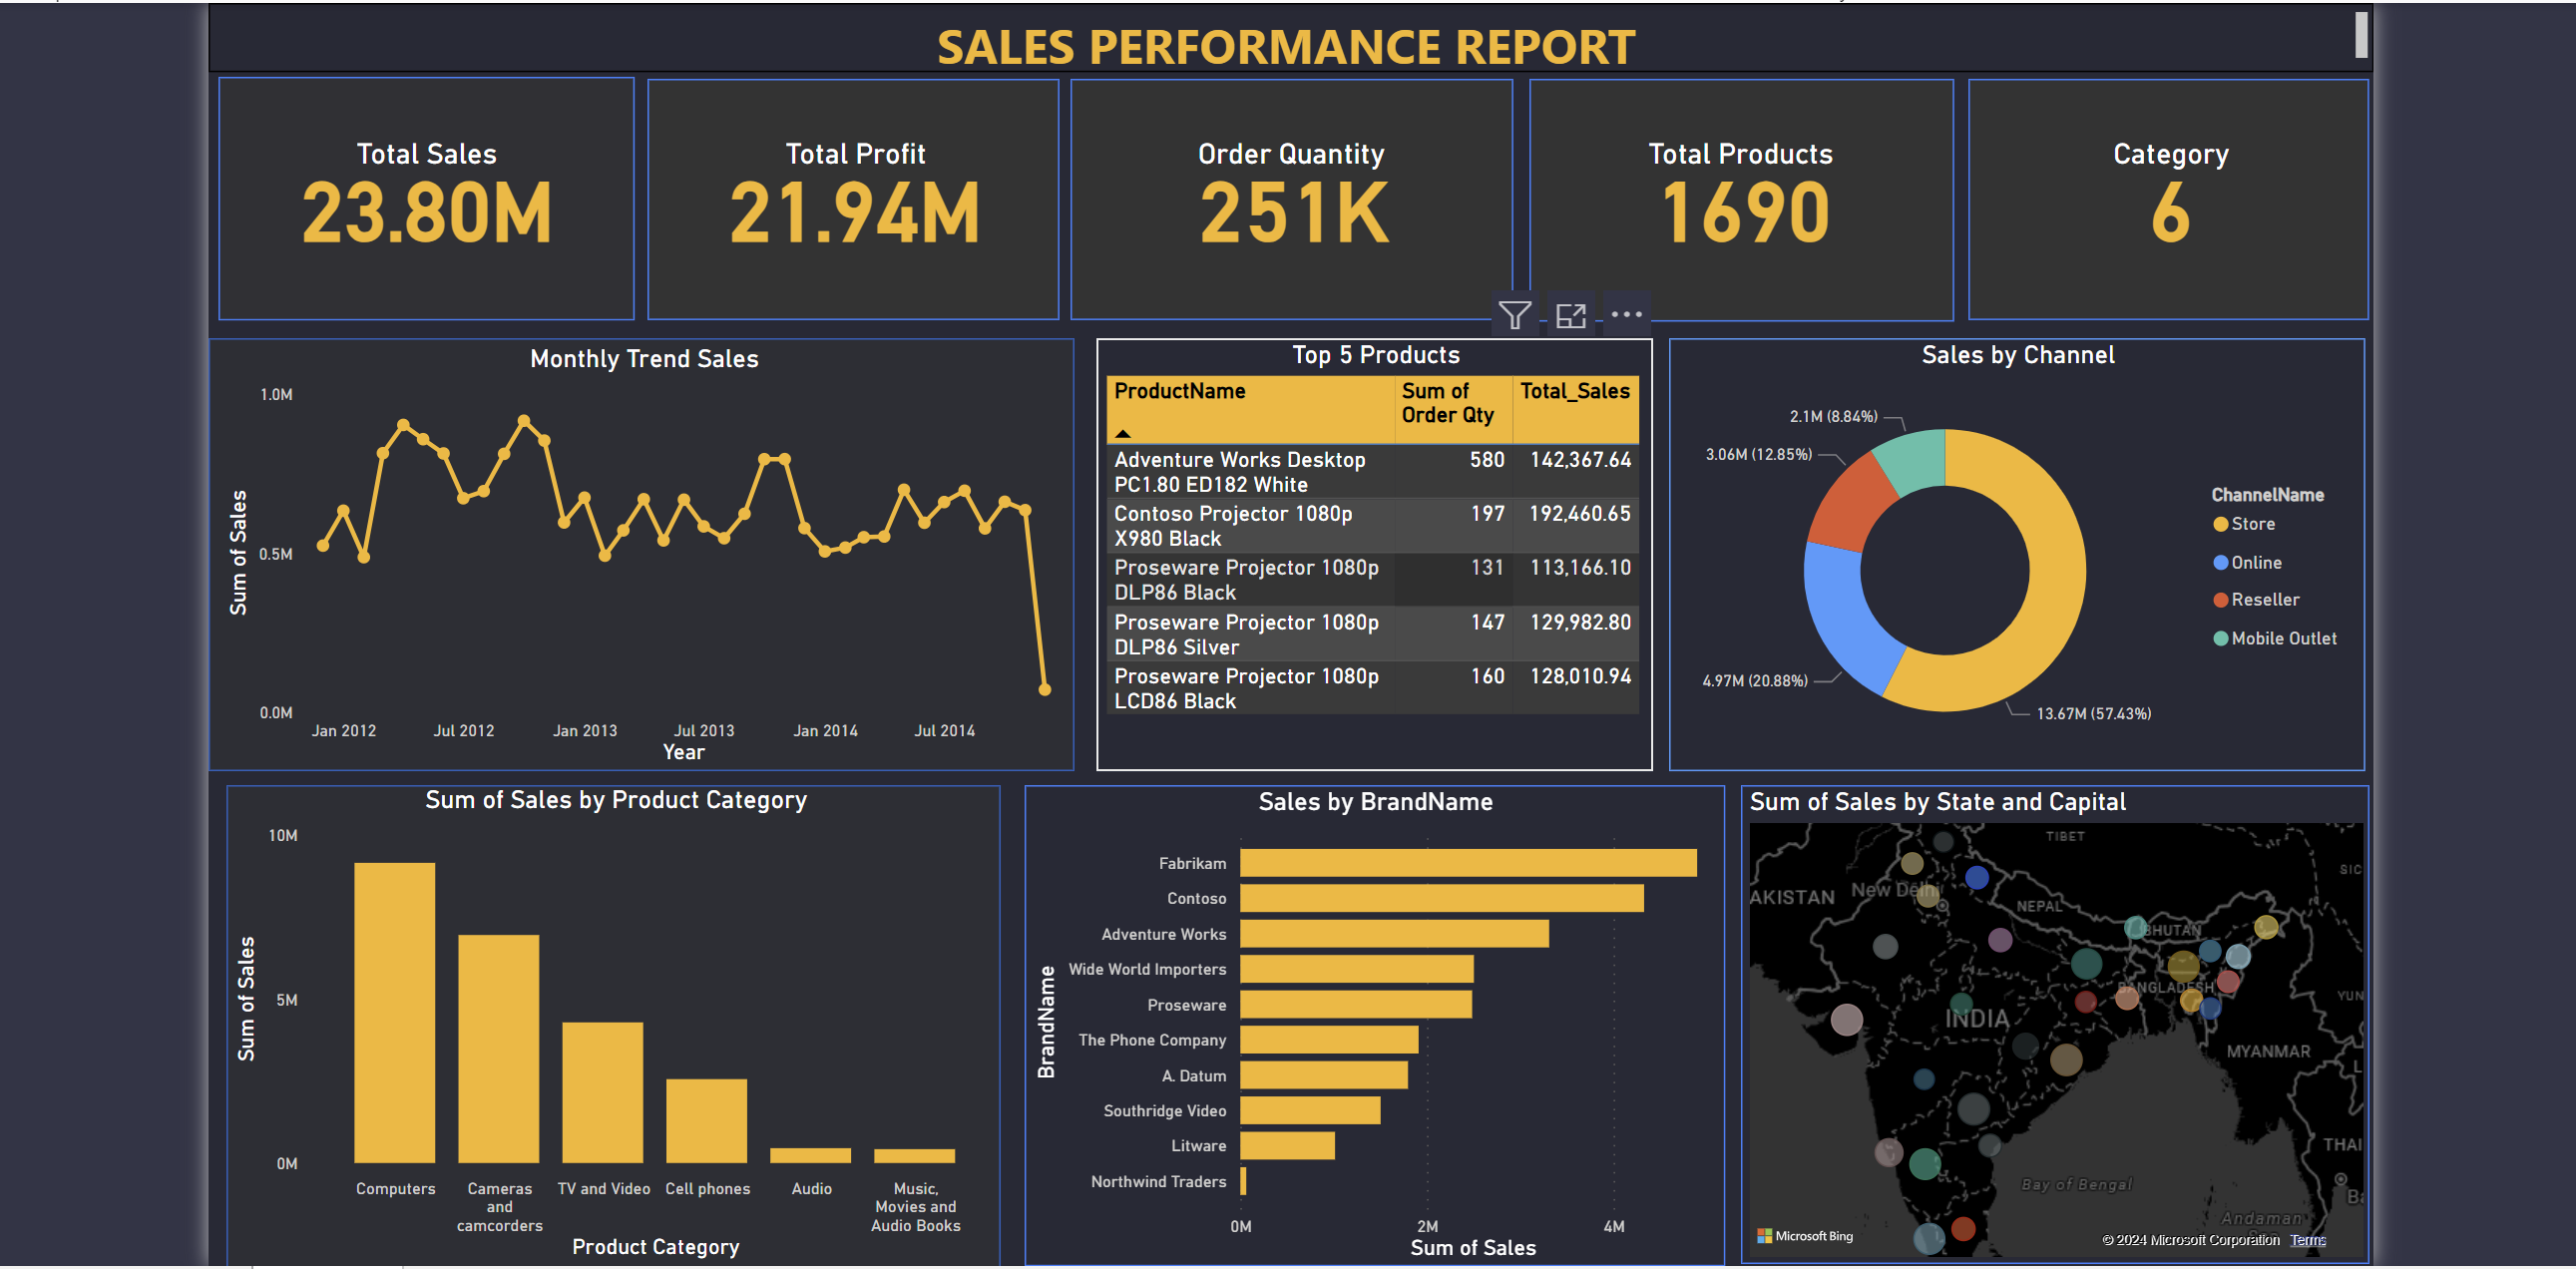

What the dashboard file says about the page in this screenshot:
{"tool":"powerbi","page":{"name":"Page 1","canvas":[1440,840],"ordinal":0},"visuals":[{"type":"textbox","box":[0,0,1440,45.9],"z":0},{"type":"shape","box":[7.2,48.8,276.8,162.1],"z":1000},{"type":"card","fields":{"Values":["Measures_.Total_Sales"]},"box":[5.3,50.4,280,163.2],"z":2000},{"type":"textbox","box":[58.4,83.6,173.8,42.5],"z":3000},{"type":"card","fields":{"Values":["Measures_.Total_Profit"]},"box":[292.6,50.2,273.9,160.6],"z":4000},{"type":"textbox","box":[343.7,83.6,173.8,42.5],"z":5000},{"type":"card","fields":{"Values":["Sum(Sales_Data.Order Qty)"]},"box":[573.3,50.4,294.6,160.6],"z":6000},{"type":"card","fields":{"Values":["Count(Sales_Product.ProductName)"]},"box":[878.1,50.5,282.6,161.5],"z":7000},{"type":"textbox","box":[633.9,83.2,172.1,43],"z":8000},{"type":"textbox","box":[932.9,83.6,172.5,42.5],"z":9000},{"type":"shape","box":[0,222.9,575.9,288],"z":10000},{"type":"shape","box":[11.5,520.6,514.9,322.7],"z":11000},{"type":"lineChart","title":"Monthly Trend Sales","fields":{"Y":["Sum(Sales_Data.Sales)"],"Category":["Sales_Data.Date.Variation.Date Hierarchy.Year","Sales_Data.Date.Variation.Date Hierarchy.Month"]},"box":[6.6,226.9,566.6,284],"z":12000},{"type":"card","fields":{"Values":["Count(Sales_Product_Sub_Categories.Product Category)"]},"box":[1170.4,50.4,266.7,160.6],"z":13000},{"type":"textbox","box":[1219.1,83.2,172.1,43],"z":14000},{"type":"columnChart","fields":{"Y":["Sum(Sales_Data.Sales)"],"Category":["Sales_Product_Sub_Categories.Product Category"]},"box":[11.9,520.2,518.9,319.8],"z":15000},{"type":"tableEx","title":"Top 5 Products","fields":{"Values":["Sales_Product.ProductName","Sum(Sales_Data.Order Qty)","Measures_.Total_Sales"]},"box":[590.5,222.9,370.2,288],"z":16000},{"type":"donutChart","title":"Sales by Channel","fields":{"Category":["Sales_Channel.ChannelName"],"Y":["Sum(Sales_Data.Sales)"]},"box":[971.4,222.9,463.1,288],"z":17000},{"type":"map","fields":{"Category":["Sales_State.State"],"Size":["Sum(Sales_Data.Sales)"],"Series":["Sales_State.Capital"]},"box":[1019.1,520.2,418,318.5],"z":18000},{"type":"clusteredBarChart","title":"Sales by BrandName","fields":{"Category":["Sales_Product.BrandName"],"Y":["Sum(Sales_Data.Sales)"]},"box":[542.7,520.2,465.8,319.8],"z":19000}]}

Visuals, with their boxes on the page's 1440x840 design canvas (x1, y1, x2, y2). These are canvas units, not pixel positions in the 2576x1269 screenshot, which may show the page scaled, cropped or inside an application window:
textbox: [x1=0, y1=0, x2=1440, y2=46]
shape: [x1=7, y1=49, x2=284, y2=211]
card - Measures_.Total_Sales: [x1=5, y1=50, x2=285, y2=214]
textbox: [x1=58, y1=84, x2=232, y2=126]
card - Measures_.Total_Profit: [x1=293, y1=50, x2=566, y2=211]
textbox: [x1=344, y1=84, x2=518, y2=126]
card - Sum(Sales_Data.Order Qty): [x1=573, y1=50, x2=868, y2=211]
card - Count(Sales_Product.ProductName): [x1=878, y1=50, x2=1161, y2=212]
textbox: [x1=634, y1=83, x2=806, y2=126]
textbox: [x1=933, y1=84, x2=1105, y2=126]
shape: [x1=0, y1=223, x2=576, y2=511]
shape: [x1=12, y1=521, x2=526, y2=843]
"Monthly Trend Sales" lineChart: [x1=7, y1=227, x2=573, y2=511]
card - Count(Sales_Product_Sub_Categories.Product Category): [x1=1170, y1=50, x2=1437, y2=211]
textbox: [x1=1219, y1=83, x2=1391, y2=126]
columnChart - Sum(Sales_Data.Sales) x Sales_Product_Sub_Categories.Product Category: [x1=12, y1=520, x2=531, y2=840]
"Top 5 Products" tableEx: [x1=590, y1=223, x2=961, y2=511]
"Sales by Channel" donutChart: [x1=971, y1=223, x2=1434, y2=511]
map - Sales_State.State x Sum(Sales_Data.Sales): [x1=1019, y1=520, x2=1437, y2=839]
"Sales by BrandName" clusteredBarChart: [x1=543, y1=520, x2=1008, y2=840]
